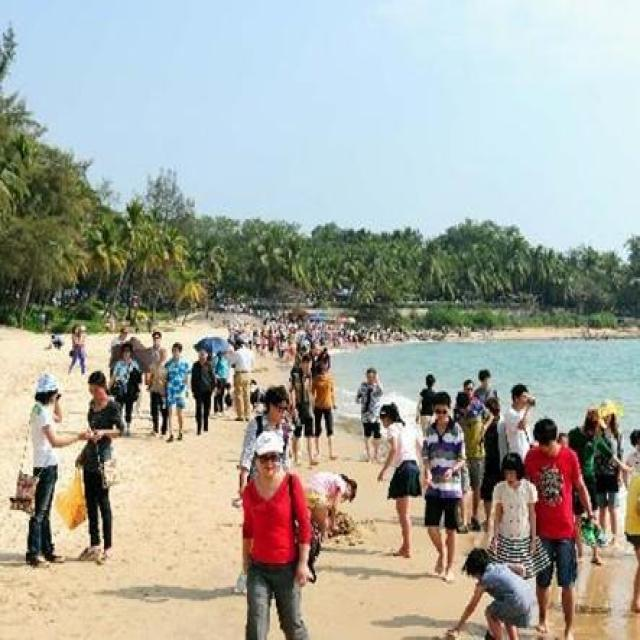non-fight: (240, 428, 315, 640), (523, 416, 593, 636), (26, 372, 84, 564), (485, 450, 548, 618), (79, 371, 124, 560), (422, 393, 467, 581), (380, 401, 424, 565), (238, 387, 293, 490), (591, 410, 625, 546), (459, 378, 488, 531), (475, 368, 501, 530), (617, 428, 640, 611), (303, 470, 357, 542), (289, 352, 317, 466), (163, 344, 192, 442), (111, 344, 141, 436), (312, 357, 338, 461), (356, 368, 383, 463), (146, 333, 170, 436), (501, 386, 534, 460), (228, 337, 254, 423), (191, 347, 215, 436), (415, 374, 438, 437), (213, 347, 232, 416), (68, 325, 87, 376)
